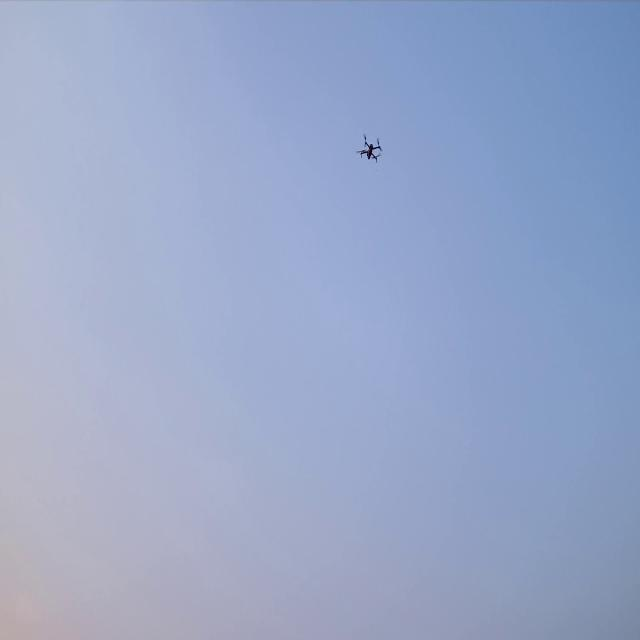UAV: (354, 132, 384, 163)
